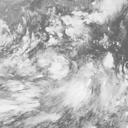cyclone: (19, 48, 95, 114)
